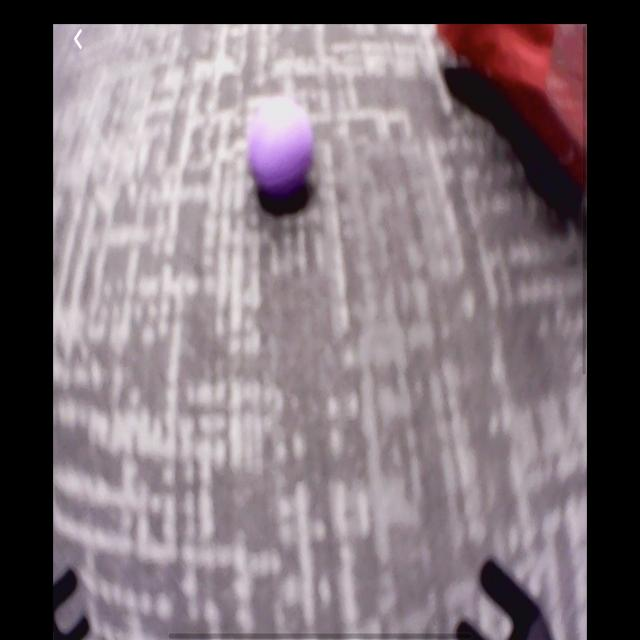ball: (249, 102, 313, 200)
